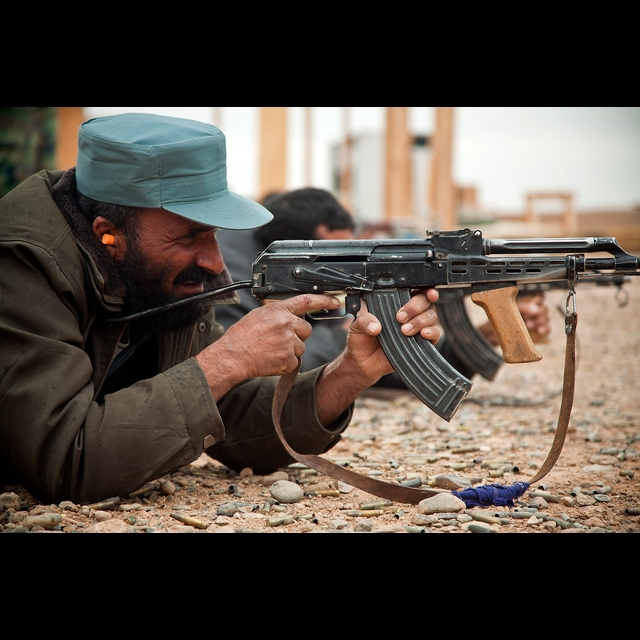AK47: (260, 216, 632, 416)
